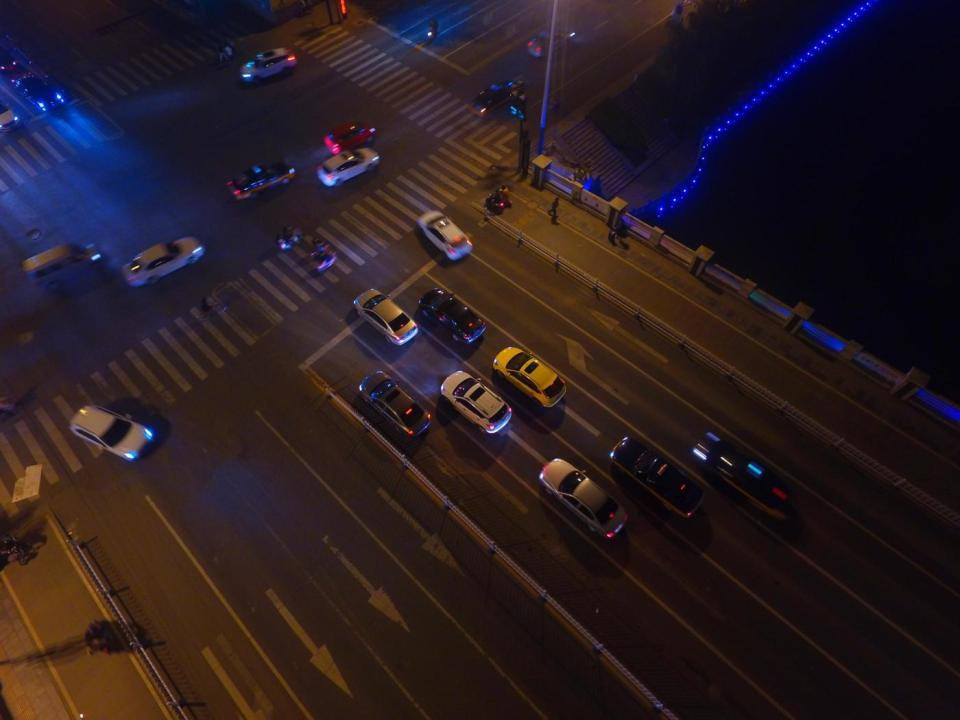car: (690, 428, 812, 529), (608, 433, 706, 519), (538, 458, 629, 539), (356, 370, 432, 438), (438, 370, 514, 436), (493, 344, 567, 410), (66, 404, 153, 459), (120, 235, 204, 288), (418, 286, 486, 346), (350, 288, 418, 344), (225, 160, 298, 204), (314, 146, 380, 189), (416, 210, 471, 260), (10, 69, 66, 113), (236, 45, 295, 83), (469, 75, 523, 116), (323, 118, 376, 158), (527, 23, 575, 56)
van: (17, 241, 102, 297)
